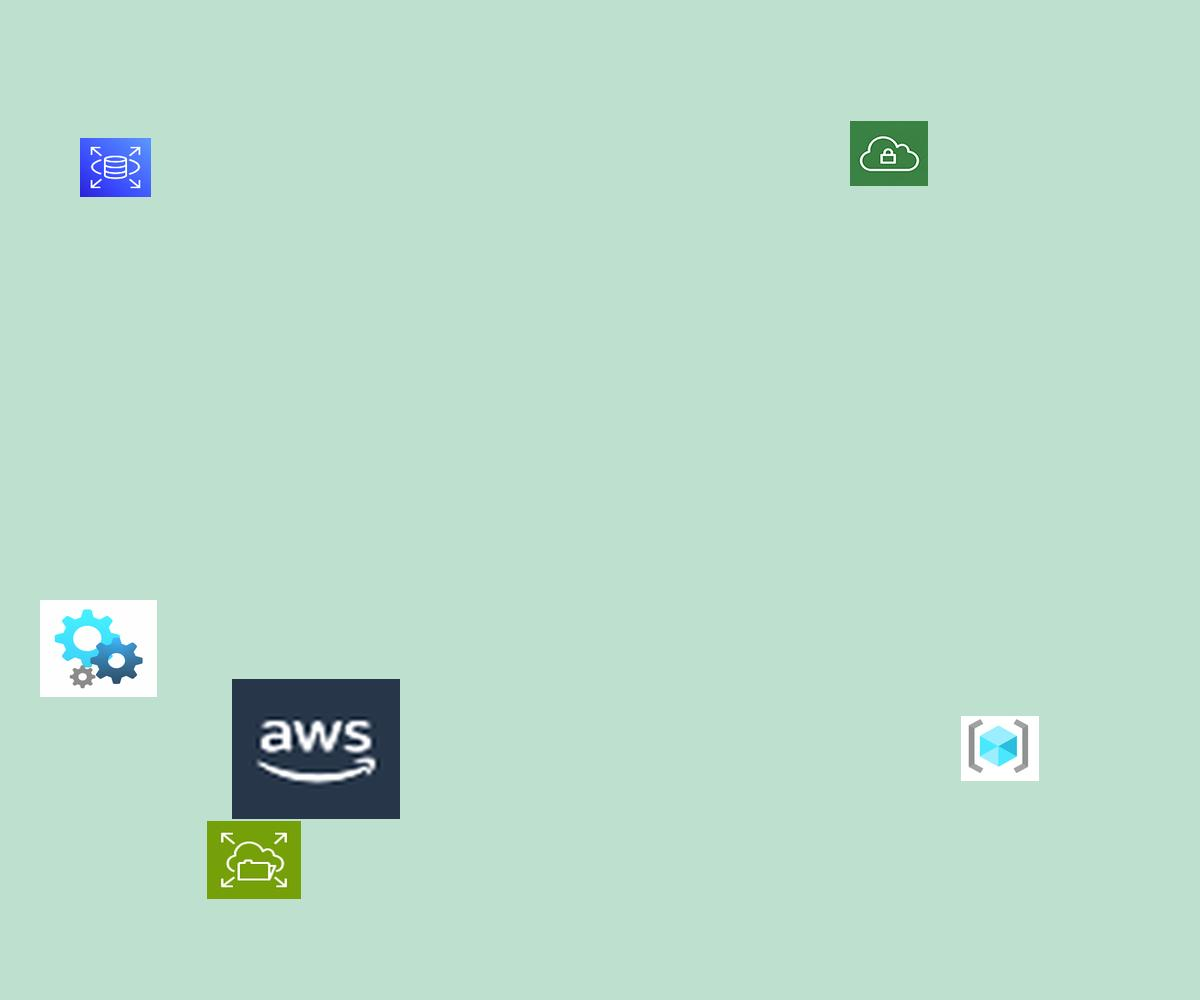AWS-Cloud-logo: (232, 679, 400, 819)
AWS-EFS: (207, 821, 301, 899)
AWS-Private_vpc: (850, 121, 928, 186)
AWS-RDS: (80, 138, 151, 197)
Azure_api: (40, 600, 157, 697)
Azure_resource_group: (961, 716, 1039, 781)
